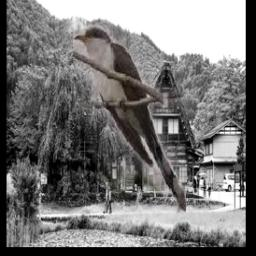Cuckoo: (74, 26, 187, 214)
